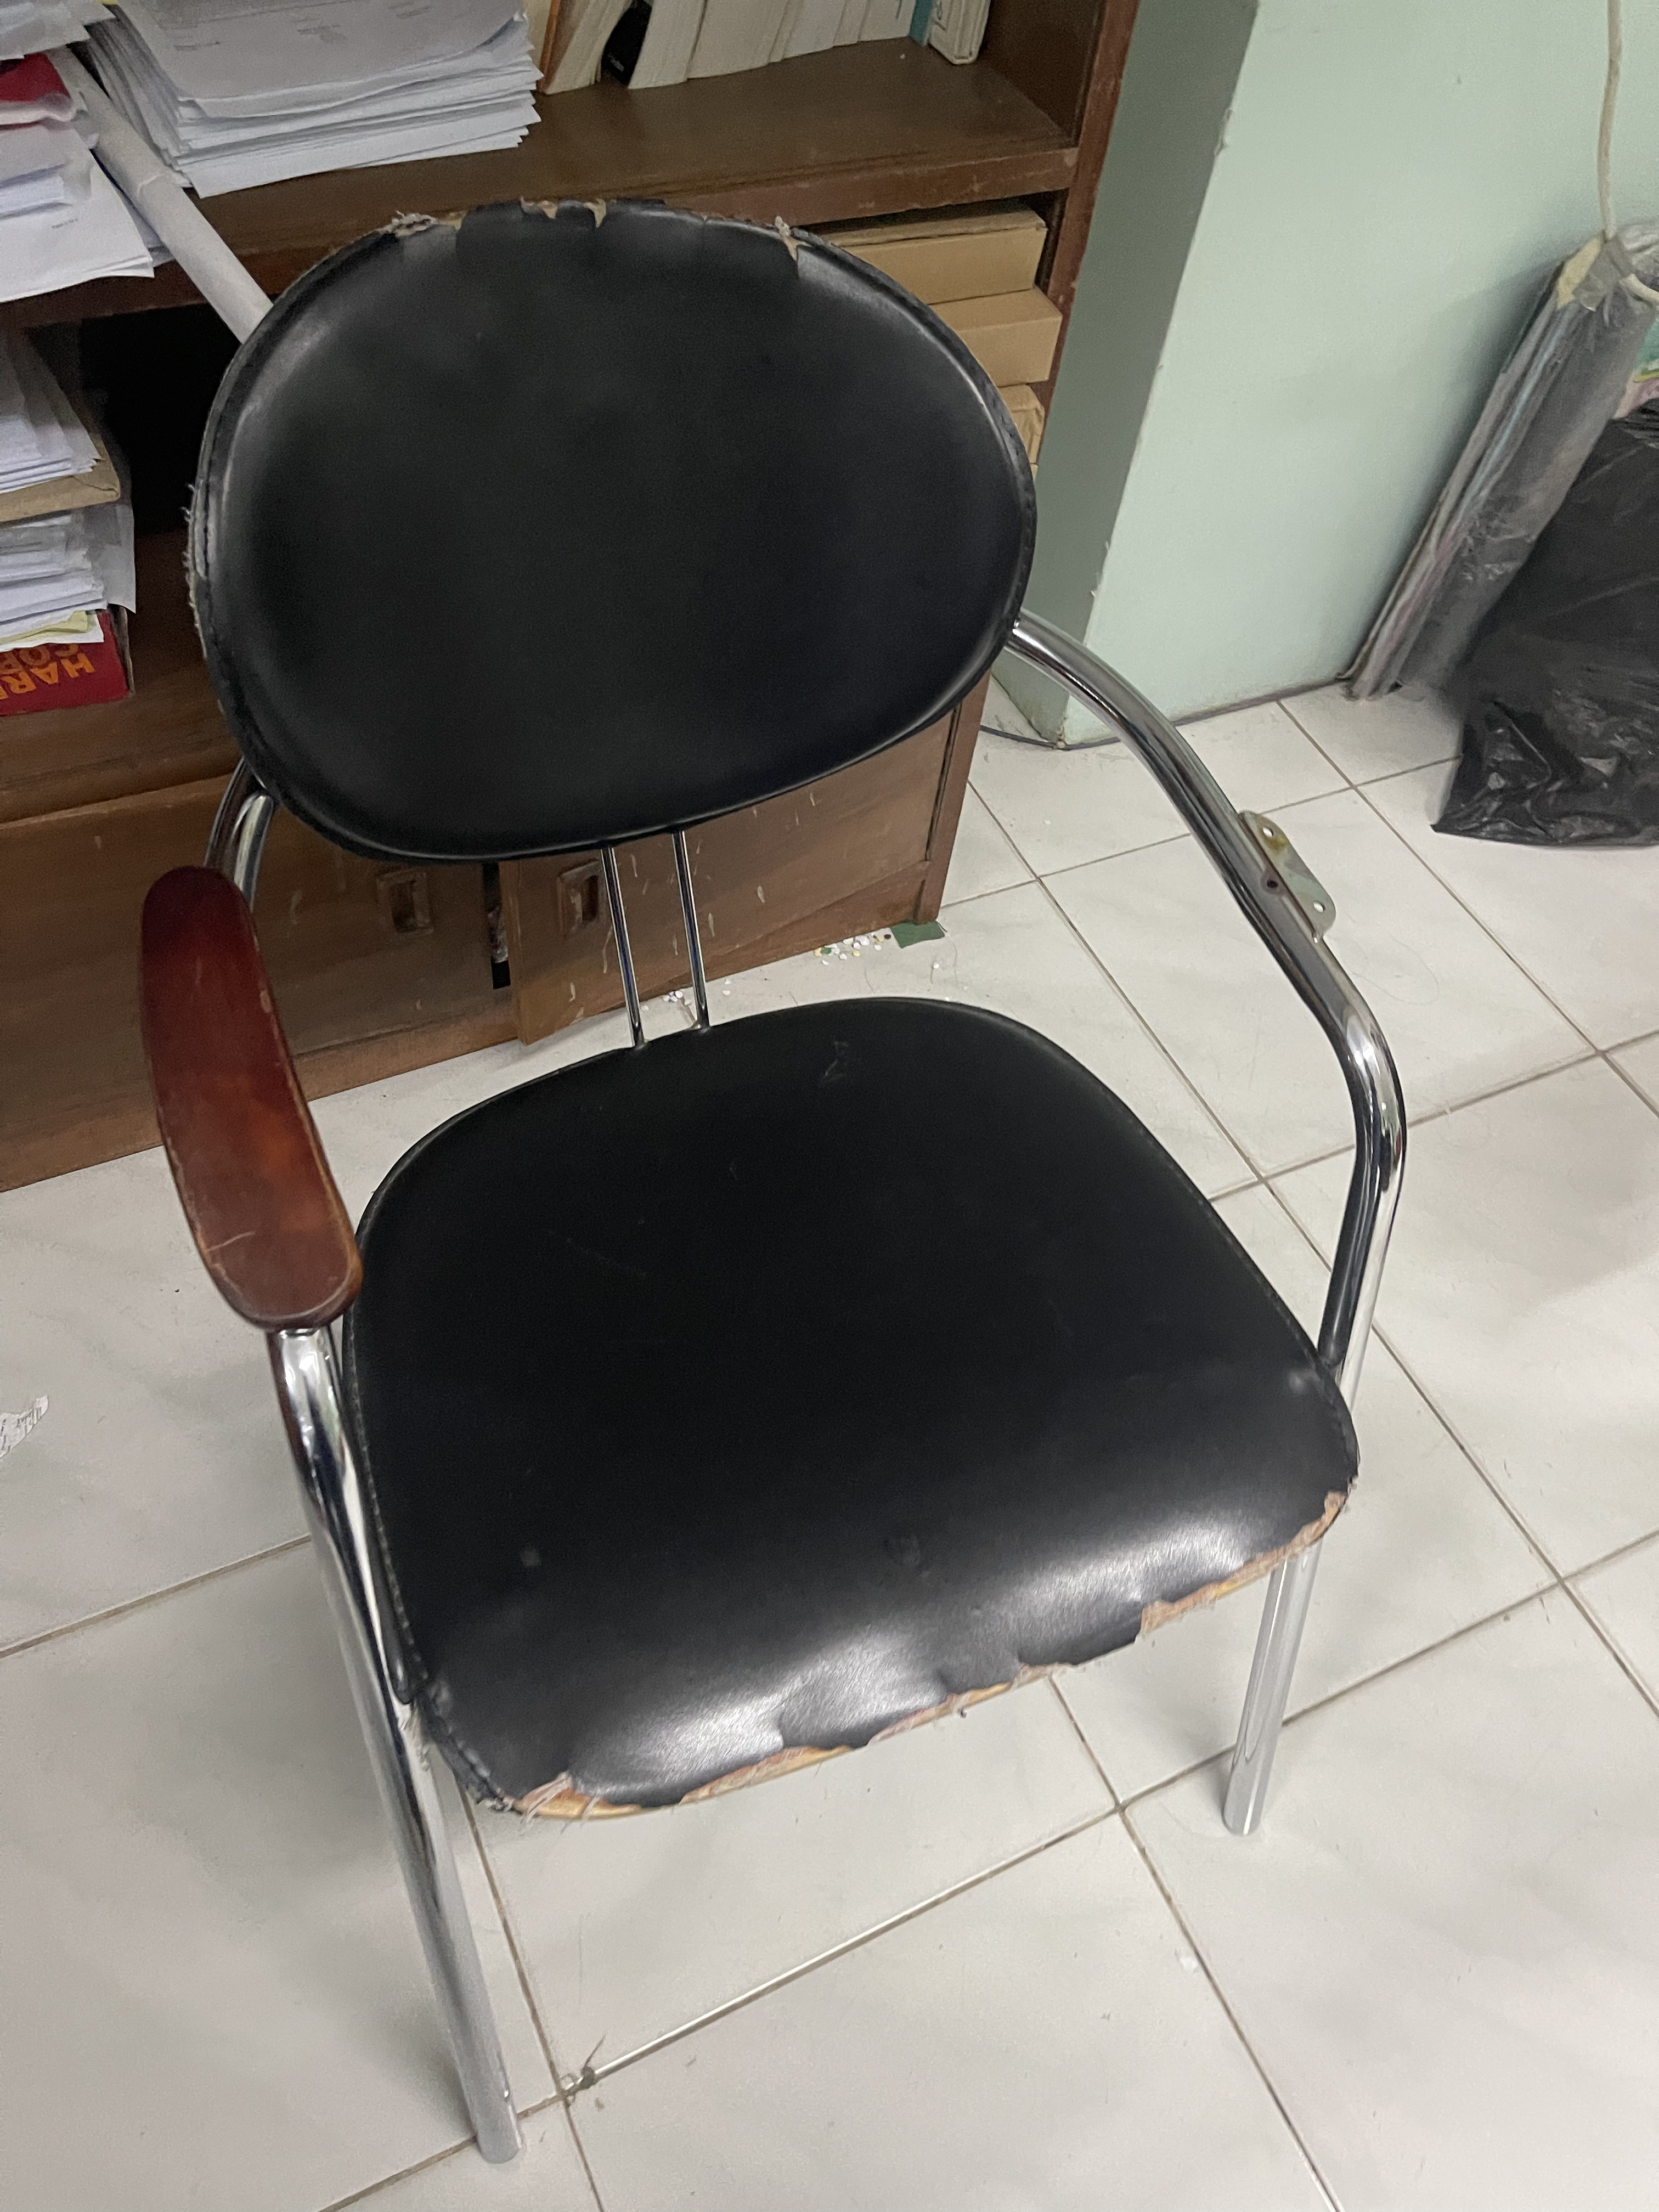chair1: (131, 200, 1419, 2182)
